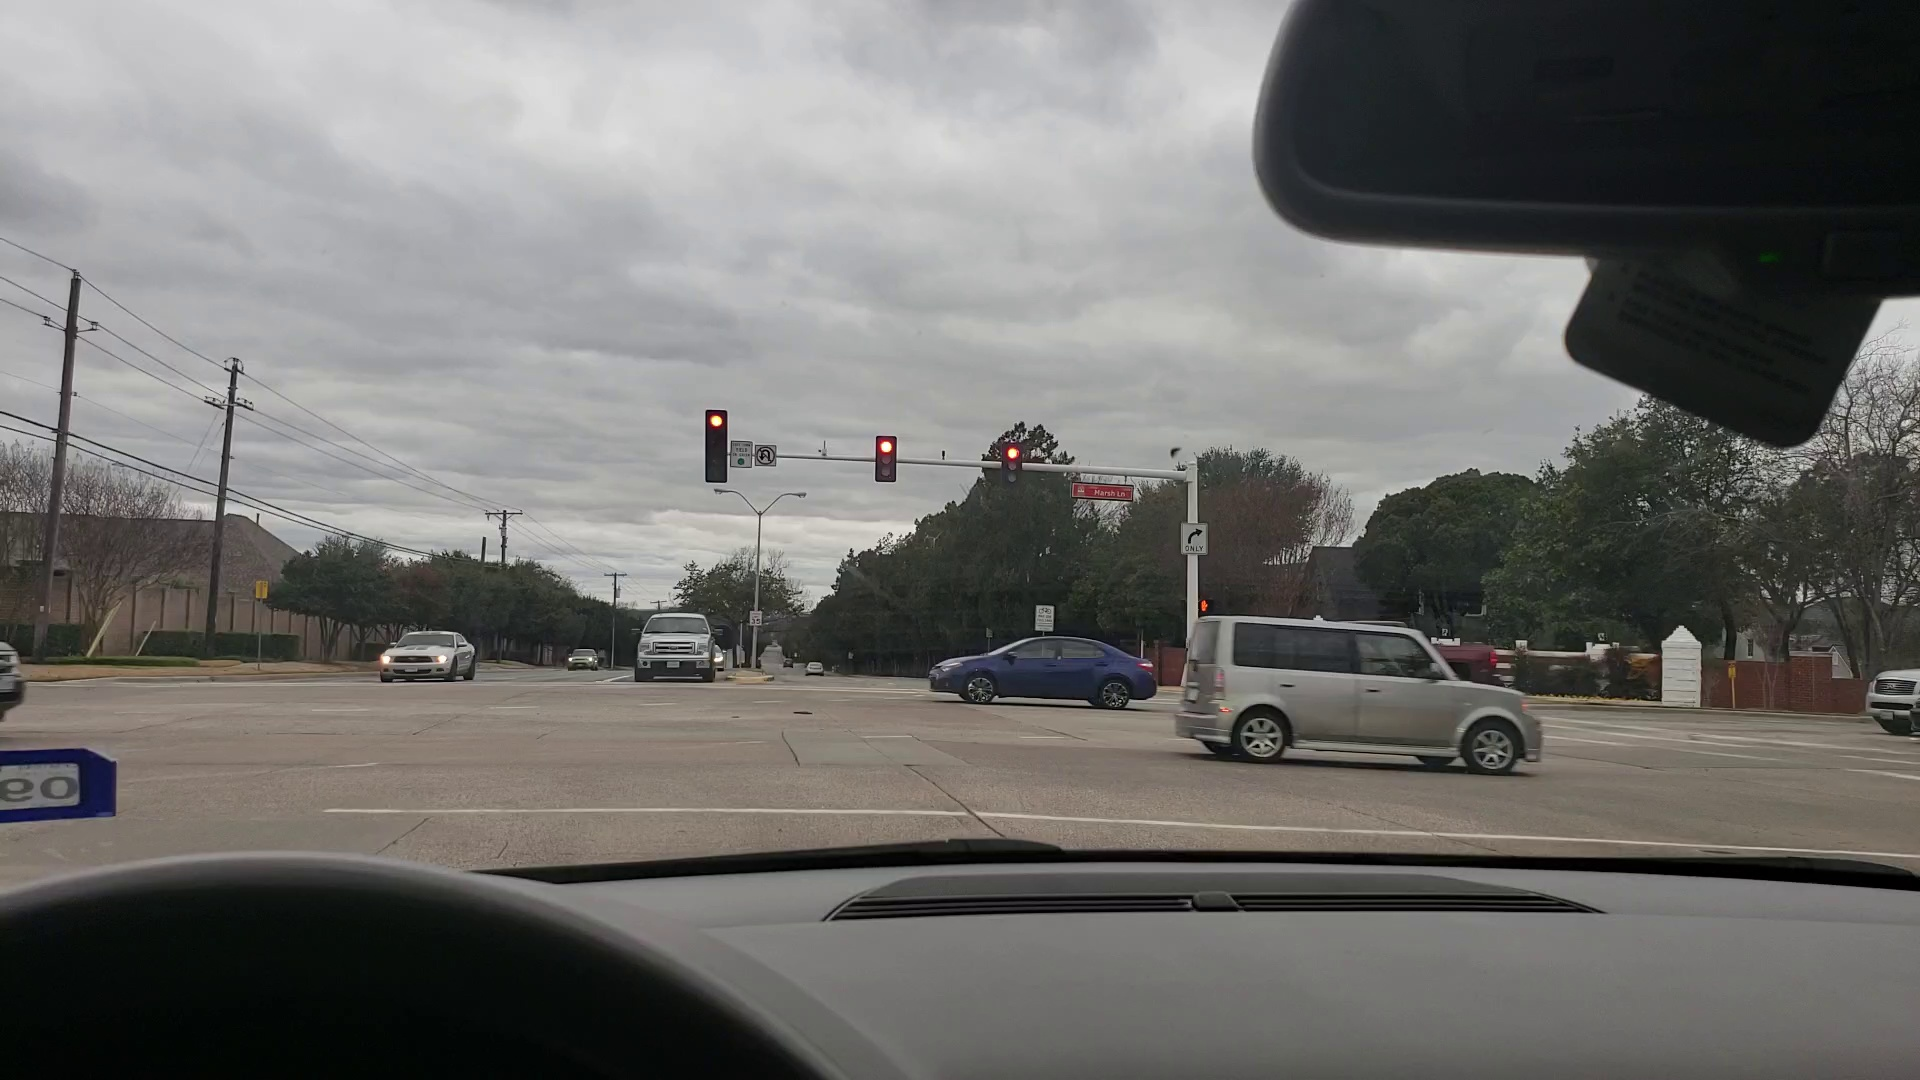car: (1179, 605, 1544, 781), (935, 628, 1160, 709), (636, 603, 719, 686), (378, 625, 477, 686), (1865, 655, 1920, 735), (564, 646, 605, 675), (804, 661, 823, 674)
traffic light: (705, 407, 729, 492), (876, 435, 898, 480), (1002, 447, 1029, 477)
